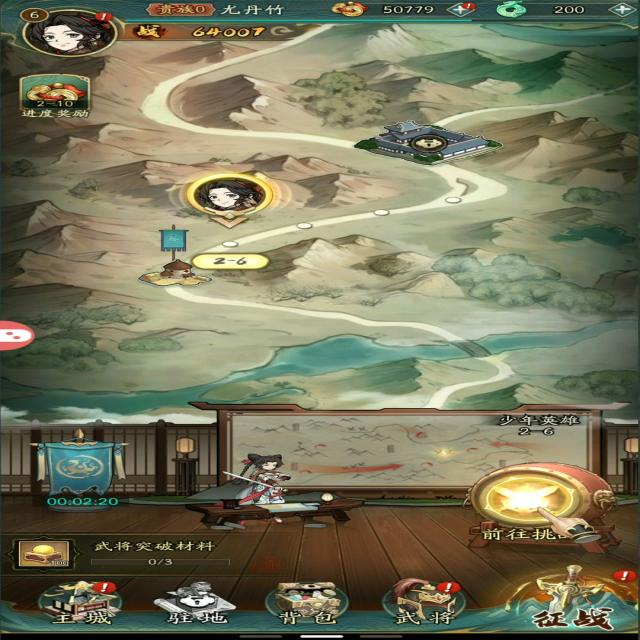hint-reddot: (430, 580, 466, 596), (88, 580, 120, 596), (611, 568, 640, 584), (89, 10, 117, 22), (448, 3, 482, 12)
navigation-bag: (258, 576, 356, 626)
navigation-fight: (502, 561, 638, 629)
navigation-hero: (376, 573, 478, 627)
navigation-main: (24, 576, 134, 626)
navigation-role: (15, 3, 136, 59)
navigation-station-off: (144, 575, 249, 628)
operation-TaskCollection: (2, 534, 259, 569)
operation-Vip: (140, 0, 220, 18)
operation-challenge: (461, 459, 609, 538)
operation-progressRewards: (18, 72, 106, 126)
operation-quickFight: (24, 426, 156, 518)
